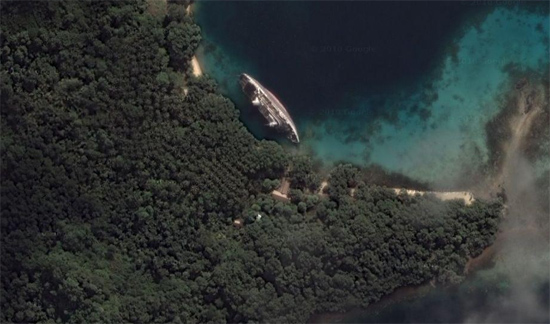ship: (235, 75, 316, 155)
